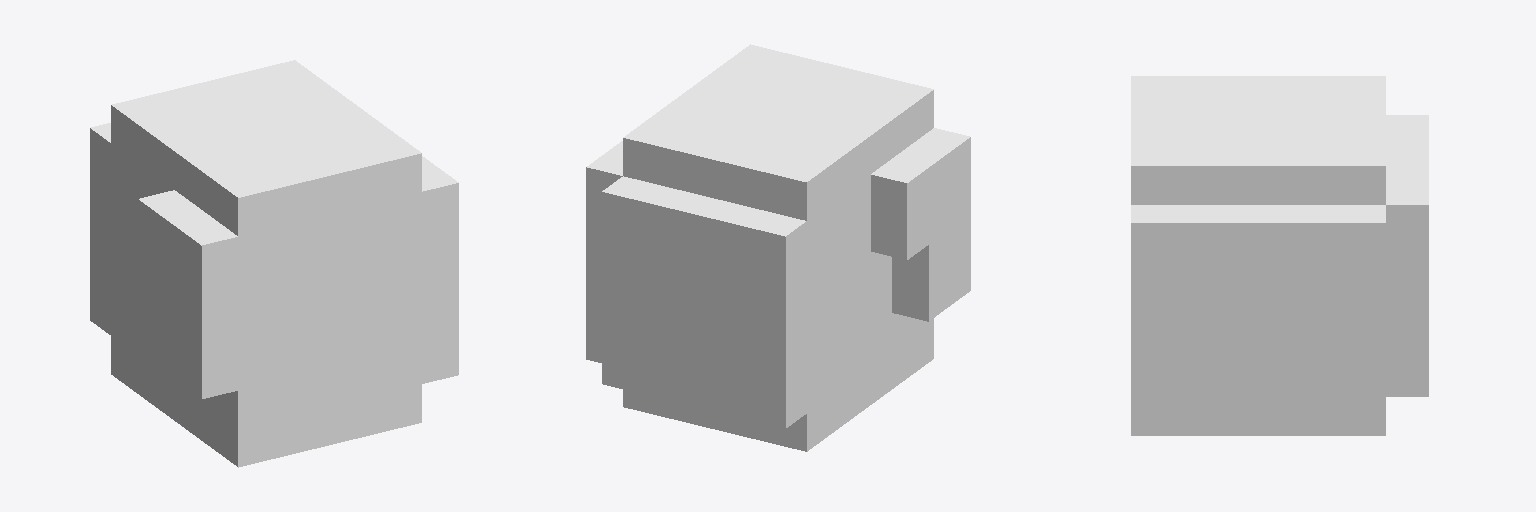
Rendered from Hero-8.obj.
3 views of the same model, side by side, from view 1: azimuth 30°, elevation 25°; view 2: azimuth 150°, elevation 25°; view 3: azimuth 270°, elevation 25° (orthographic).
Visible parts, largest first — view 1: object 1; view 2: object 1; view 3: object 1.
Part boxes in pixels (bbox=[...]): object 1: bbox=[90, 60, 458, 467]; object 1: bbox=[586, 44, 970, 451]; object 1: bbox=[1131, 76, 1428, 435].
Size of the model in its own units: 0.7 by 0.7 by 0.7.